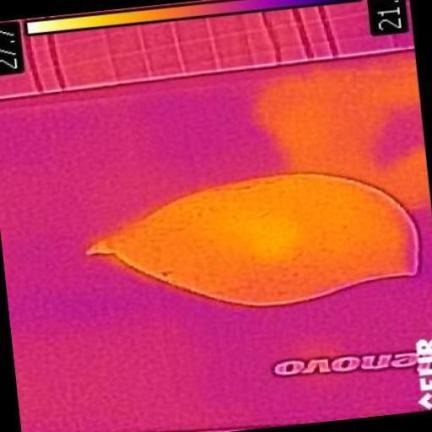mango: (87, 174, 420, 306)
